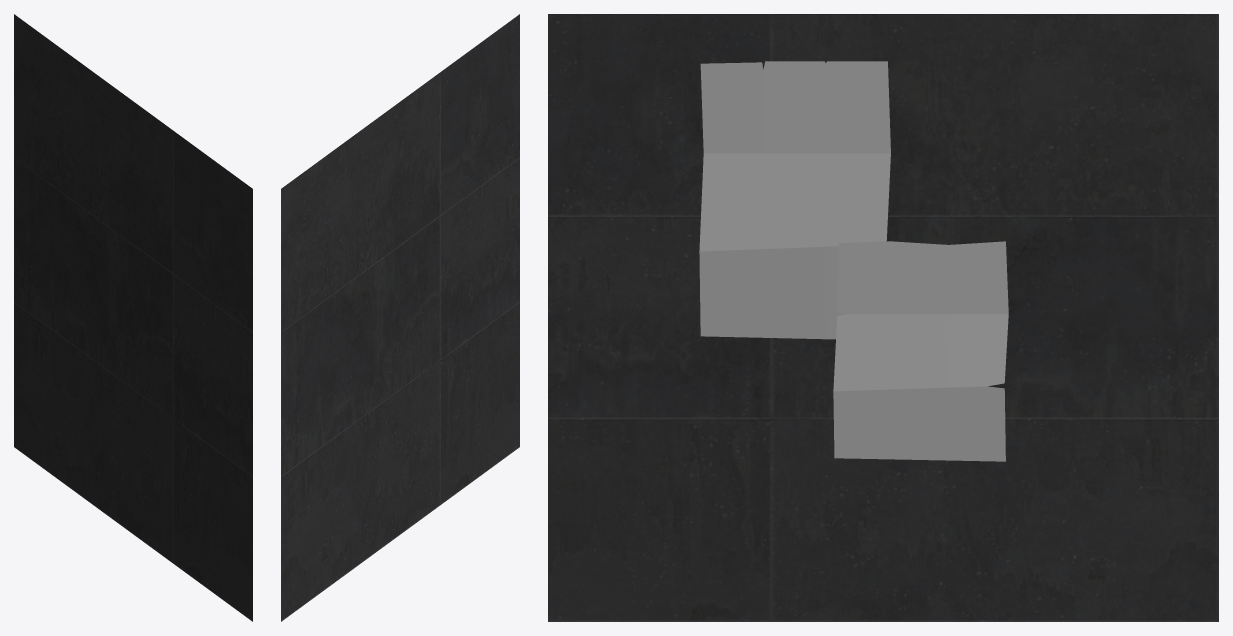
File: Wall_2.fbx
3 renders of one model, left to right at view 1: azimuth 30°, elevation 25°; view 2: azimuth 150°, elevation 25°; view 3: azimuth 270°, elevation 25°, orthographic. The views are drawn at different scales.
Parts seen in each view (by area): view 1: Wall; view 2: Wall; view 3: Wall, Arcade, RitornoAlFuturo.
Part boxes in pixels (box(x1,y1,x2,y2)): Wall: box(14, 14, 252, 621); Wall: box(281, 14, 519, 621); Wall: box(548, 14, 1218, 621); Arcade: box(699, 61, 890, 339); RitornoAlFuturo: box(833, 241, 1008, 461).
Size of the model in its own units: 17.31 by 1000 by 1000.
